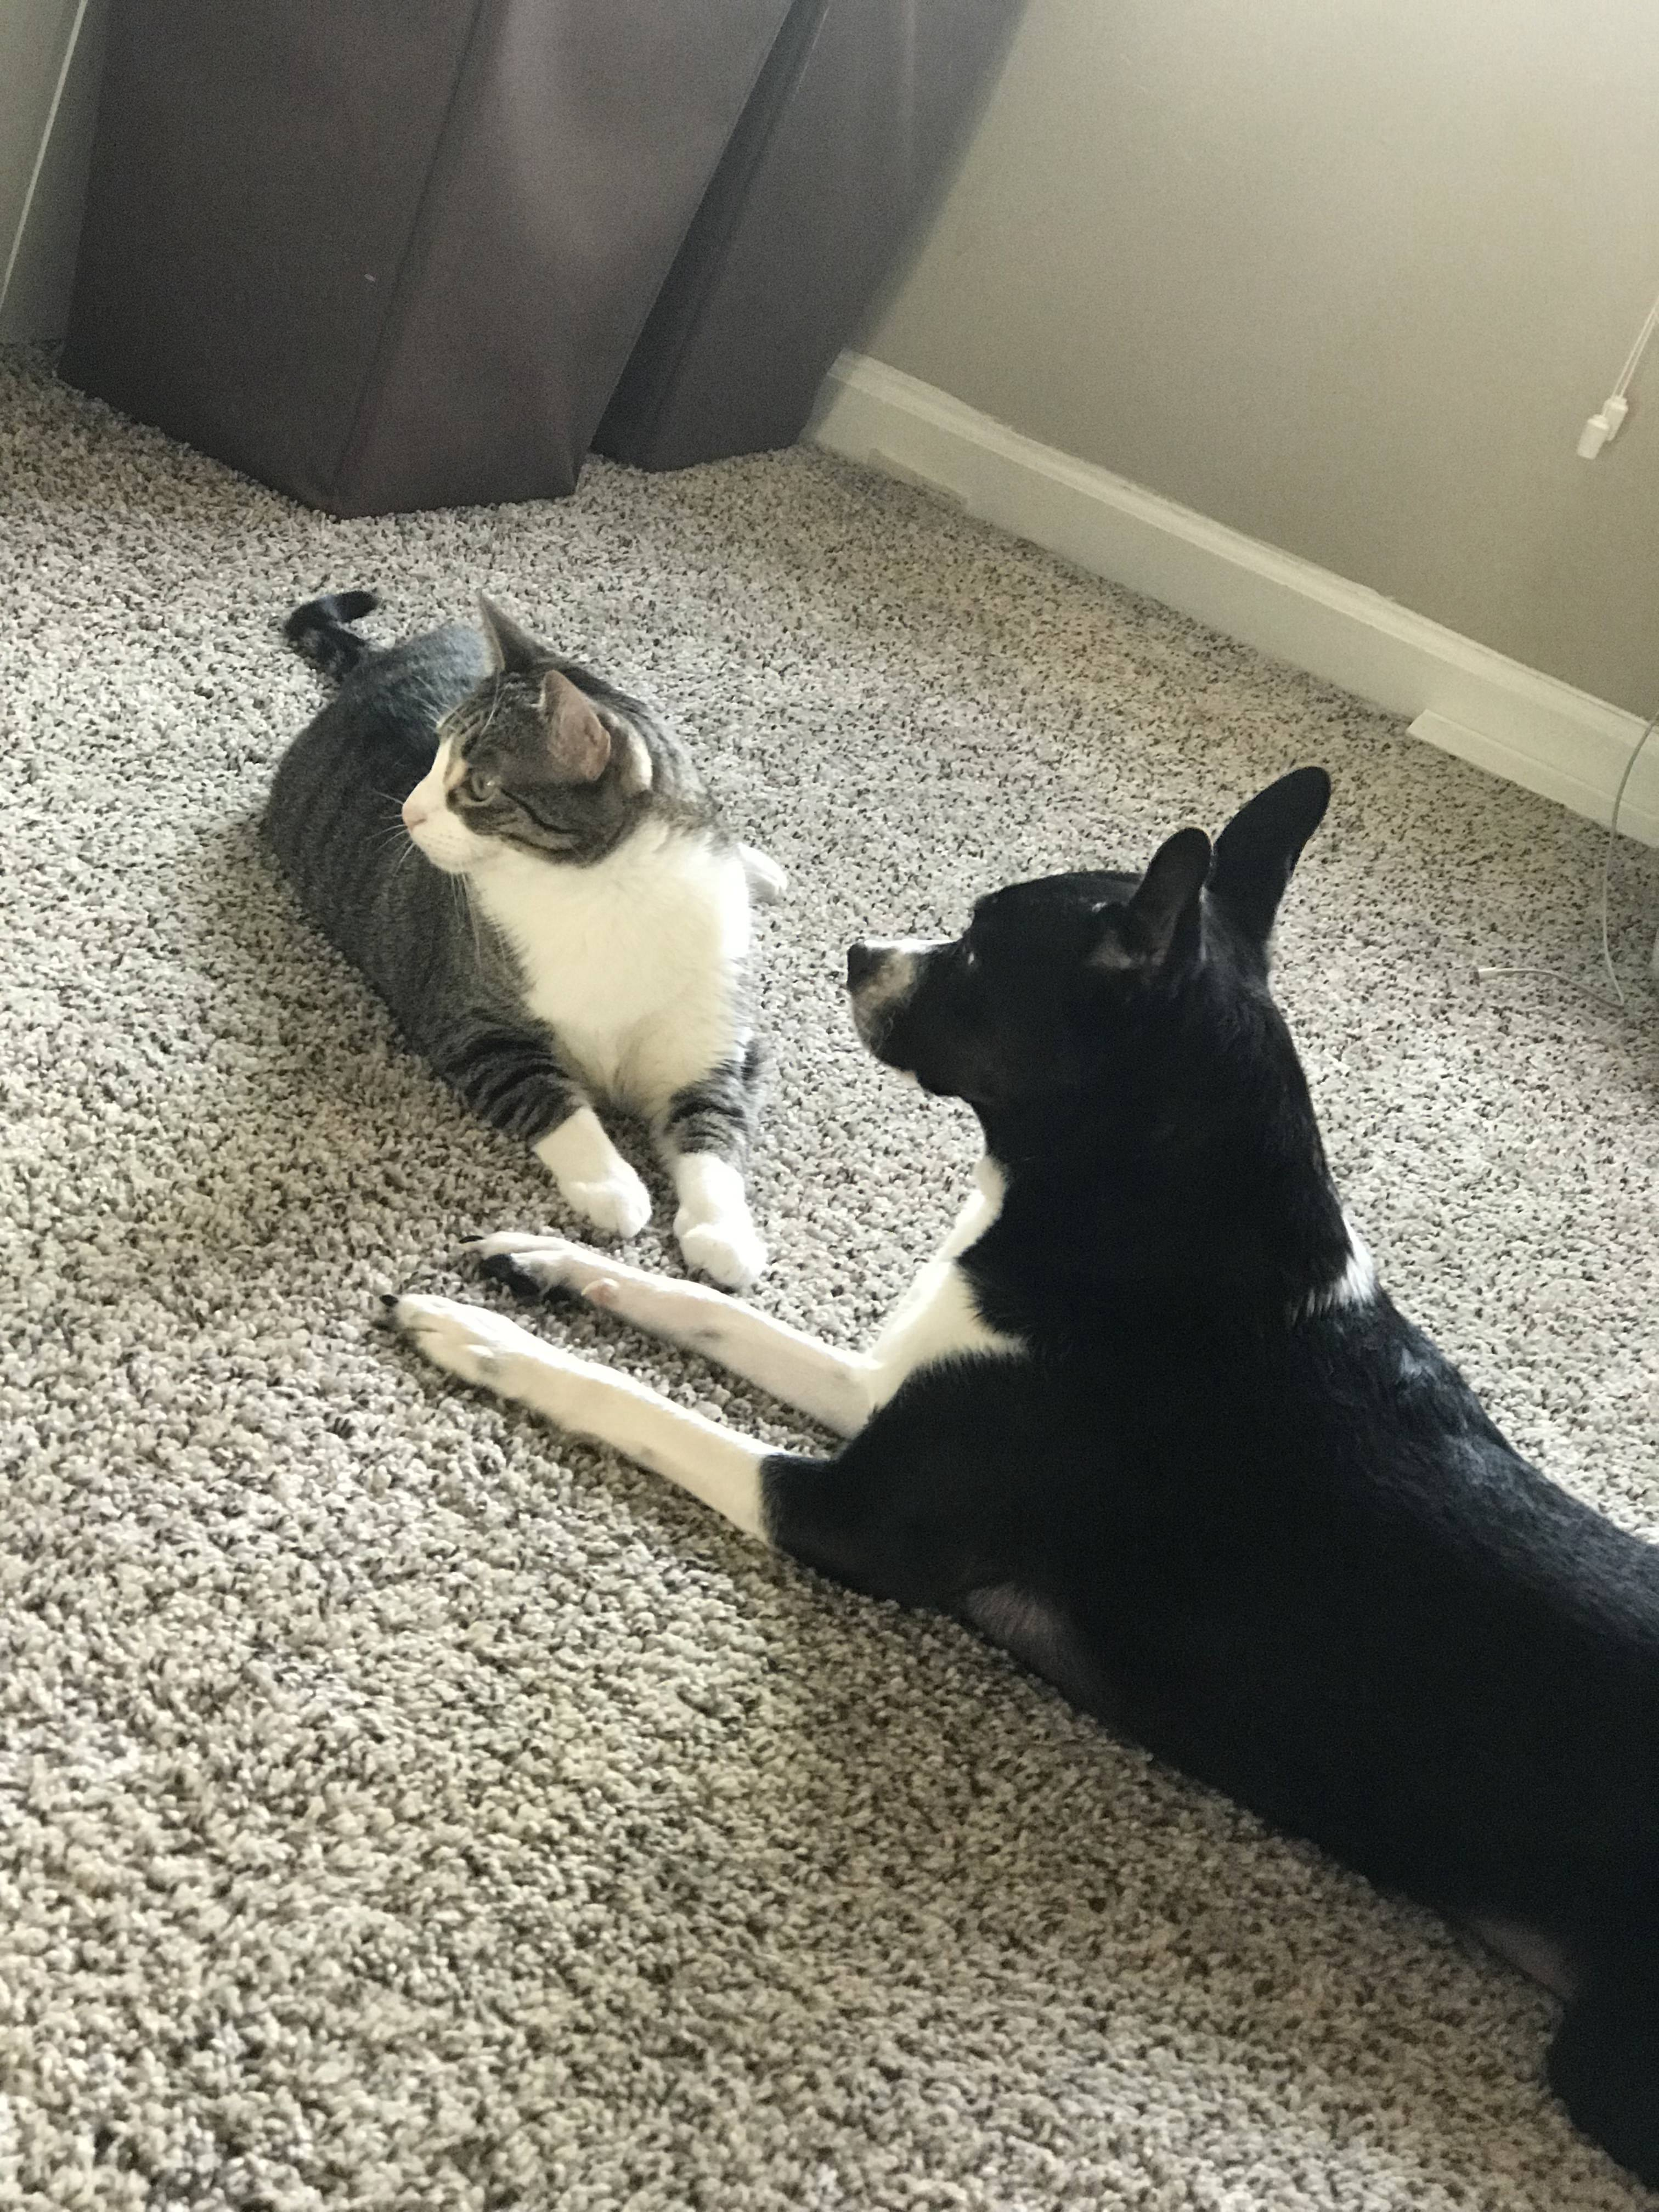Harley: (758, 744, 1659, 2123)
